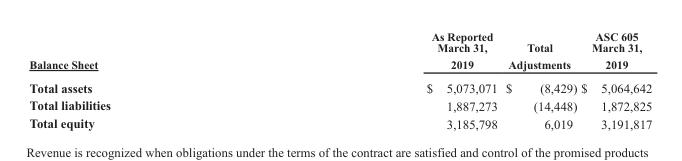table: (28, 29, 651, 130)
table column: (28, 29, 267, 130), (267, 29, 500, 130), (500, 29, 578, 130), (578, 29, 651, 130)
table column header: (28, 29, 651, 75)
table row: (28, 29, 651, 75), (28, 75, 651, 96), (28, 96, 651, 114), (28, 114, 651, 130)
